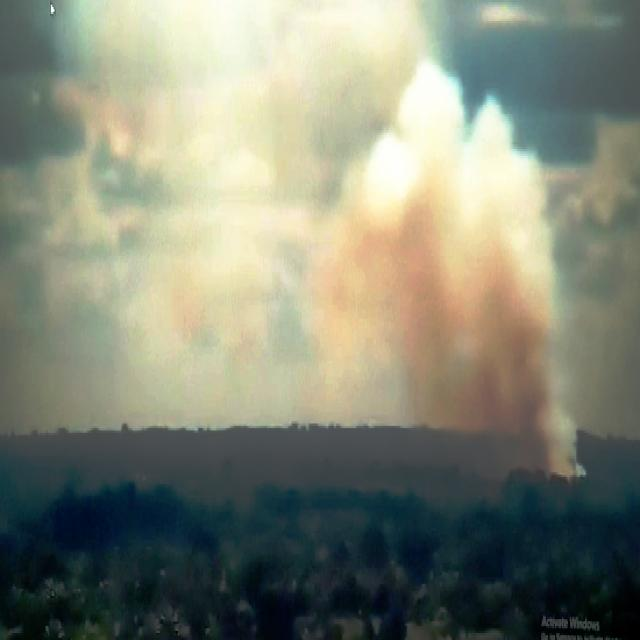asap: (306, 48, 595, 511)
